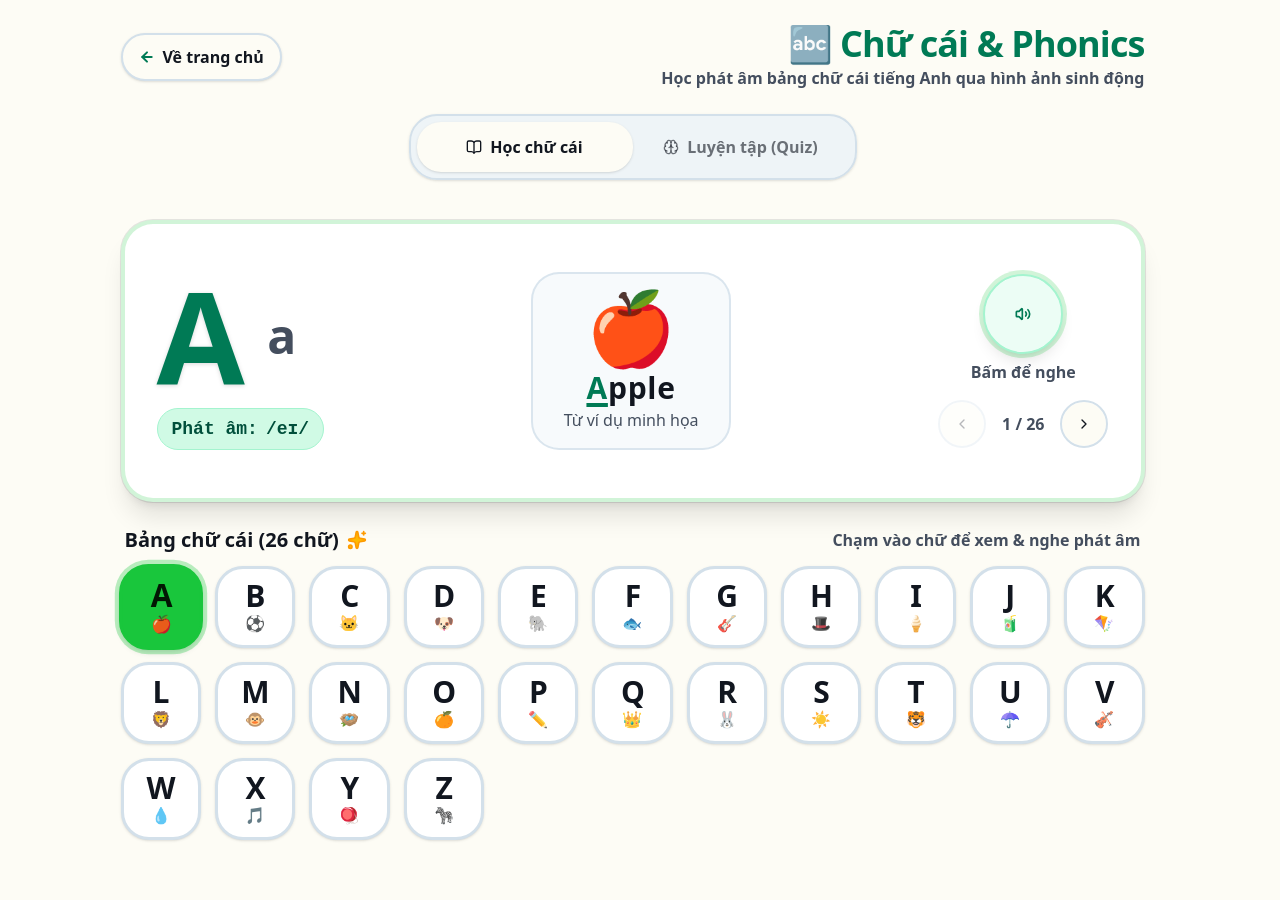
Test: Alphabet Game Page (app/games/alphabet/page.tsx) › navigates letters sequentially via Next and Prev buttons in Learn mode
Expected: the button named "Chữ trước" is disabled, [938,400,986,448]
Expected: the element named "Từ ví dụ: Apple" is shown, [564,370,698,432]
Click the button named "Chữ tiếp theo": (1084, 424) [1060,400,1108,448]
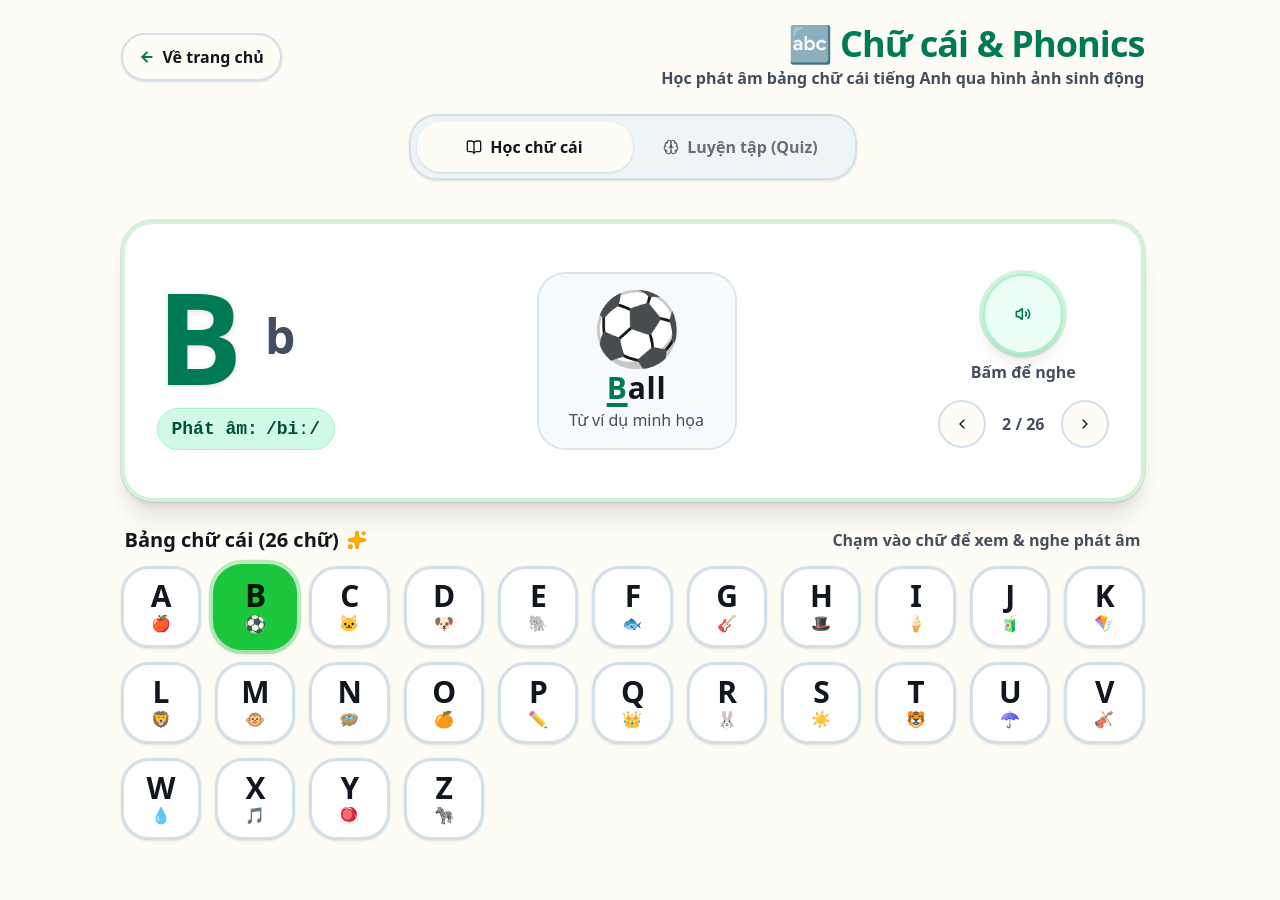
Now the element named "Từ ví dụ: Ball" is shown, box [569,370,704,432]
Now the button named "Chữ trước" is enabled
Click the button named "Chữ trước": (962, 424) [938,400,986,448]
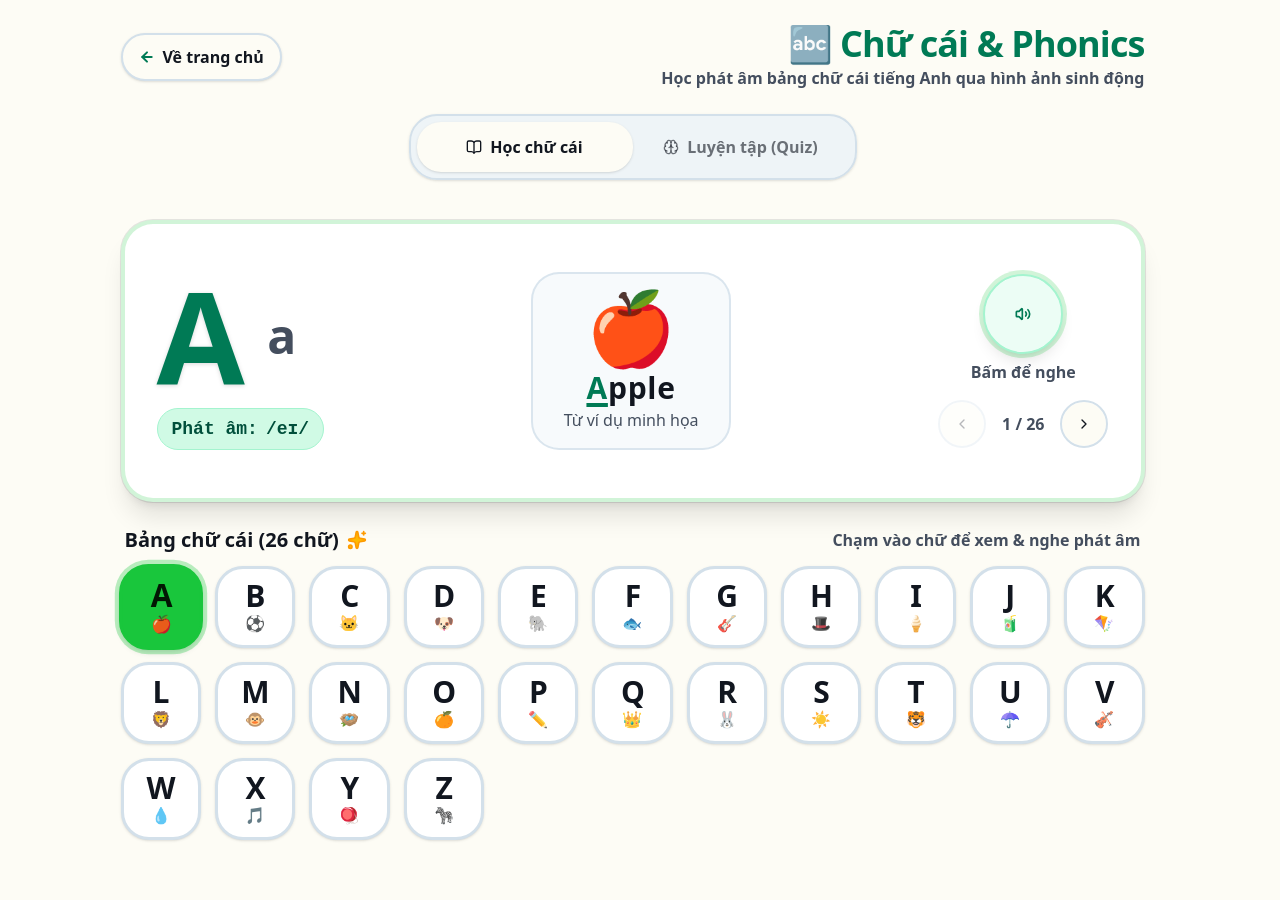
Now the element named "Từ ví dụ: Apple" is shown, box [564,370,698,432]
Now the button named "Chữ trước" is disabled, box [938,400,986,448]
